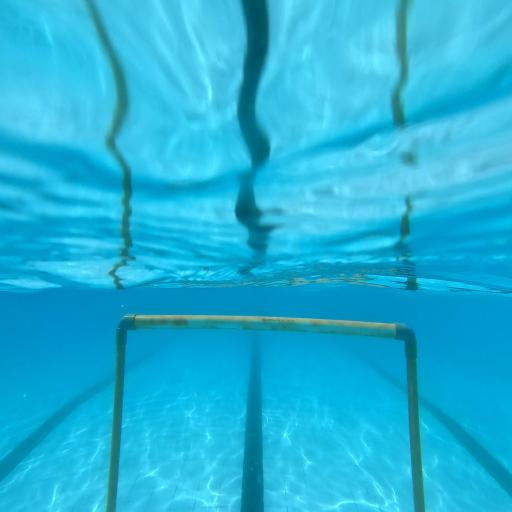gate: (107, 315, 425, 512)
